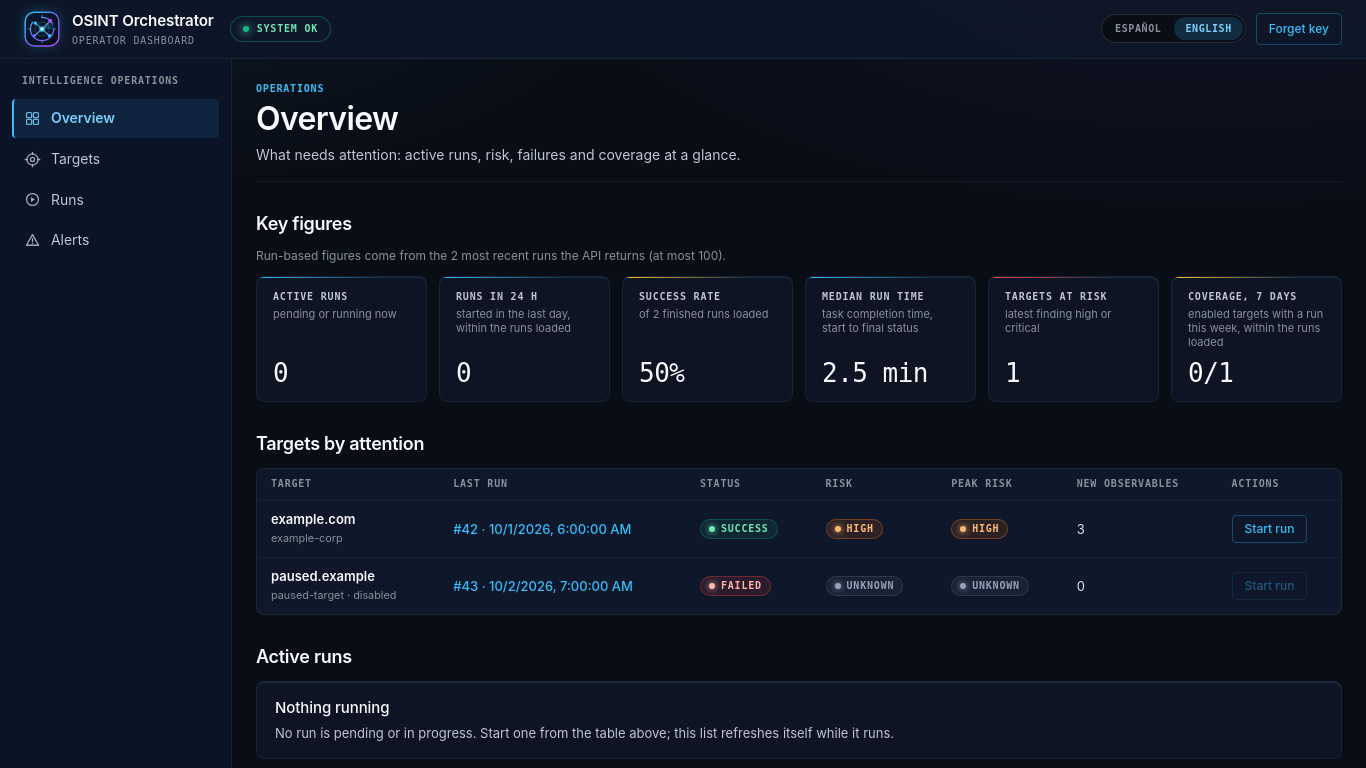
Scenario: App shell › forgets the key and locks the dashboard again
Expected: the heading "Overview" is shown, [256, 99, 398, 138]
What coordinates should you click on to do the following:
click the button "Forget key"
I would click on:
 (1299, 29)
Its box is [1256, 13, 1342, 45].
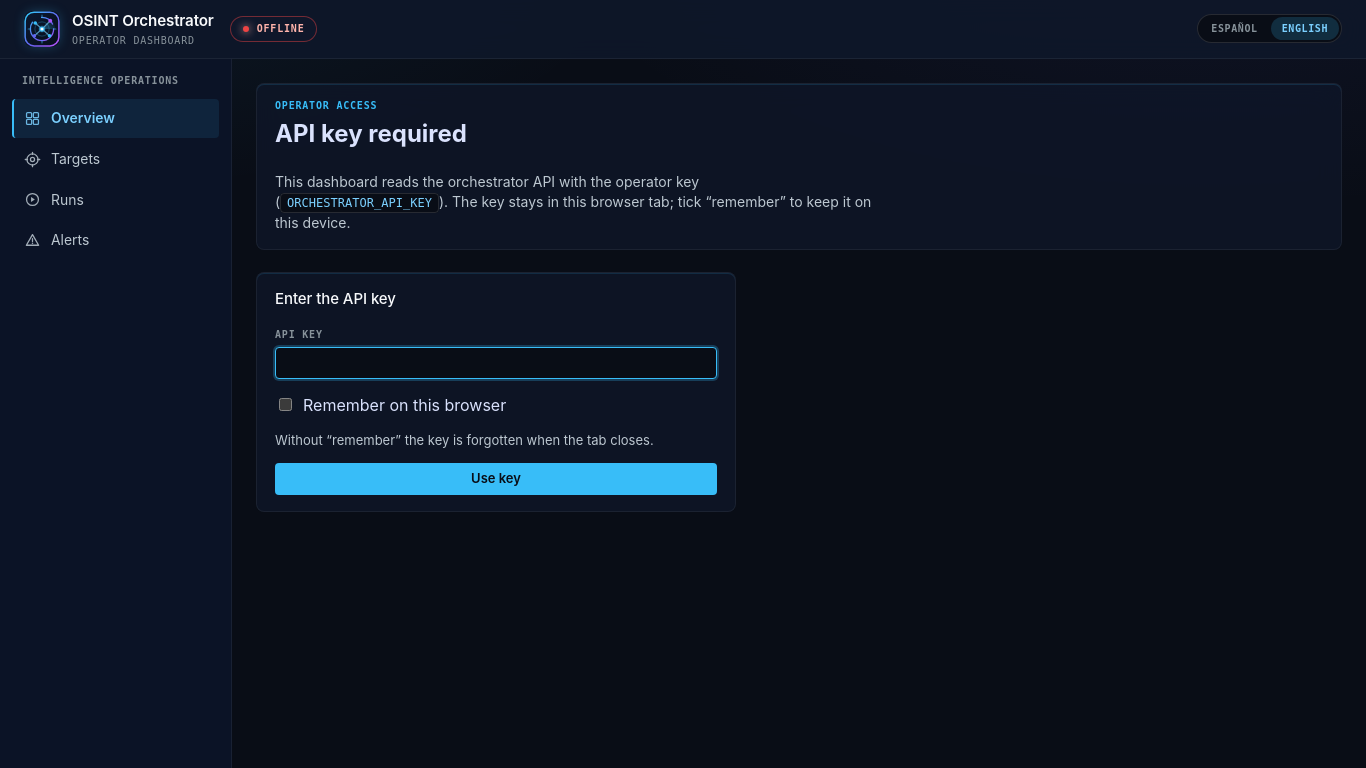
Expected: the heading "API key required" is shown, [275, 119, 467, 148]
